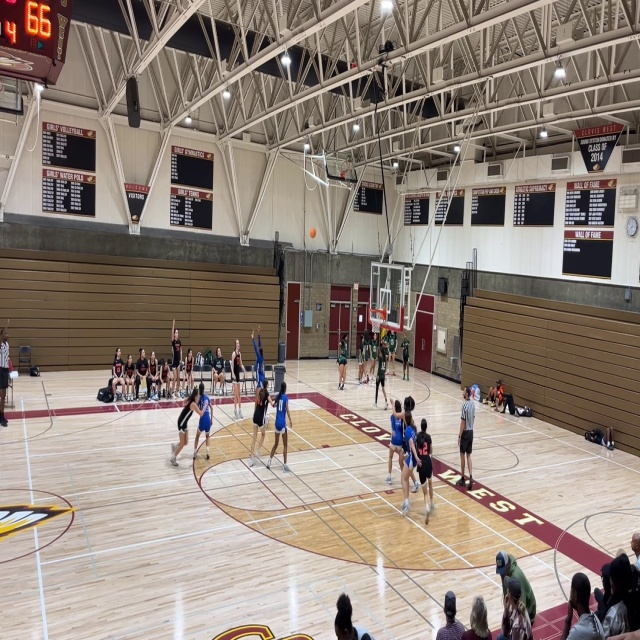Basketball: (309, 228, 316, 238)
